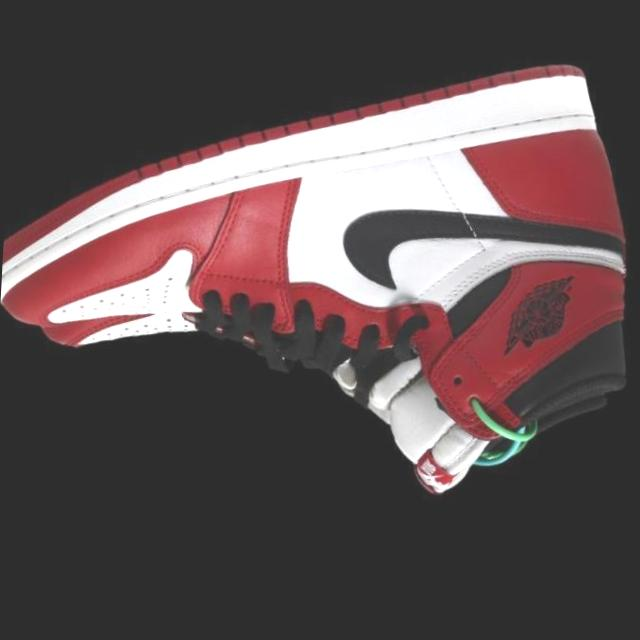nike_original_jordan: (0, 14, 640, 627)
